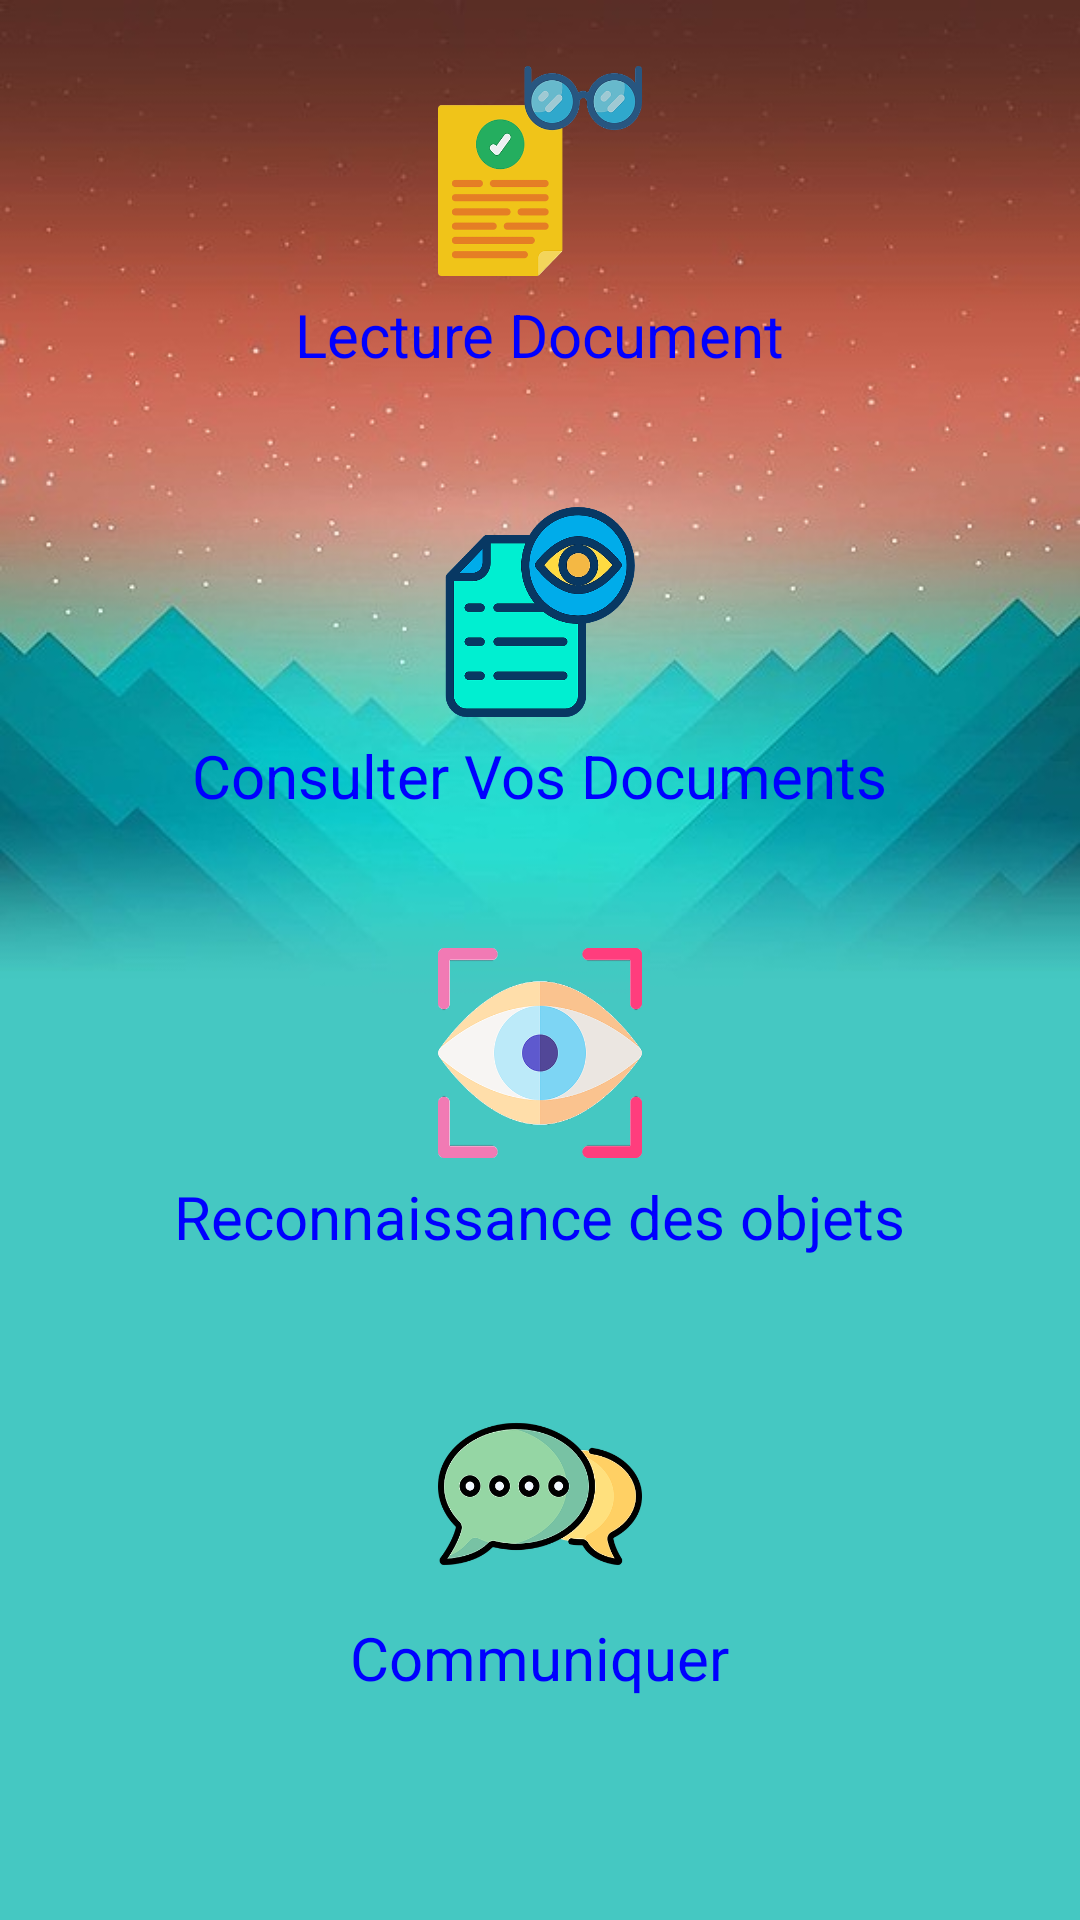

Where to tap for icons on this 1080 × 1920 app screen, as (x,y):
eye: (540,1053)
paper: (540,171)
speech: (540,1494)
